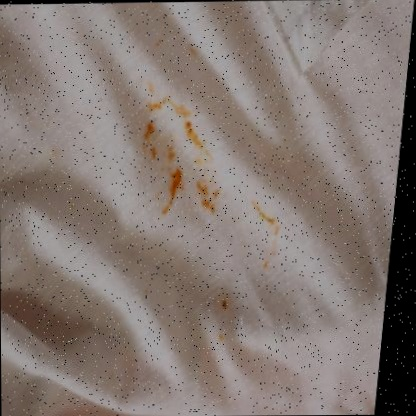kimchi: (119, 88, 229, 237), (241, 199, 294, 278), (205, 327, 231, 351), (210, 292, 232, 315), (186, 39, 203, 56), (154, 34, 165, 46)
